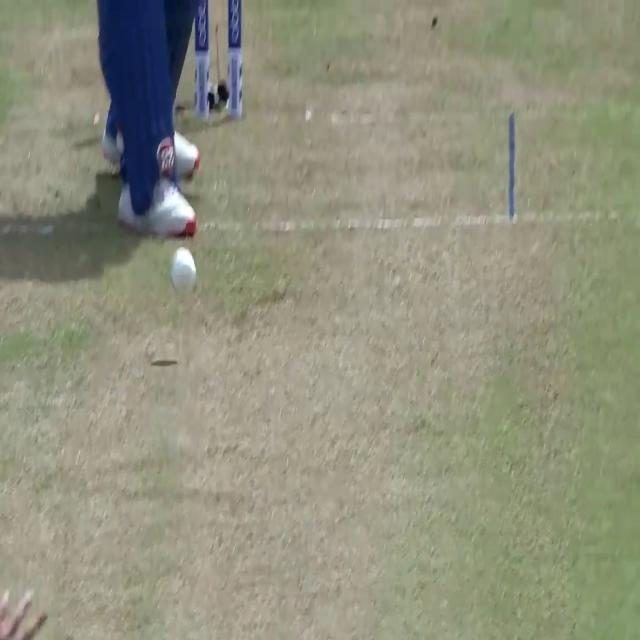ball: (170, 250, 197, 293)
